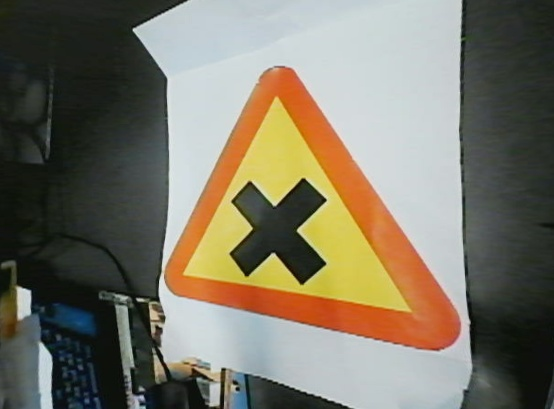junction: (153, 65, 459, 356)
